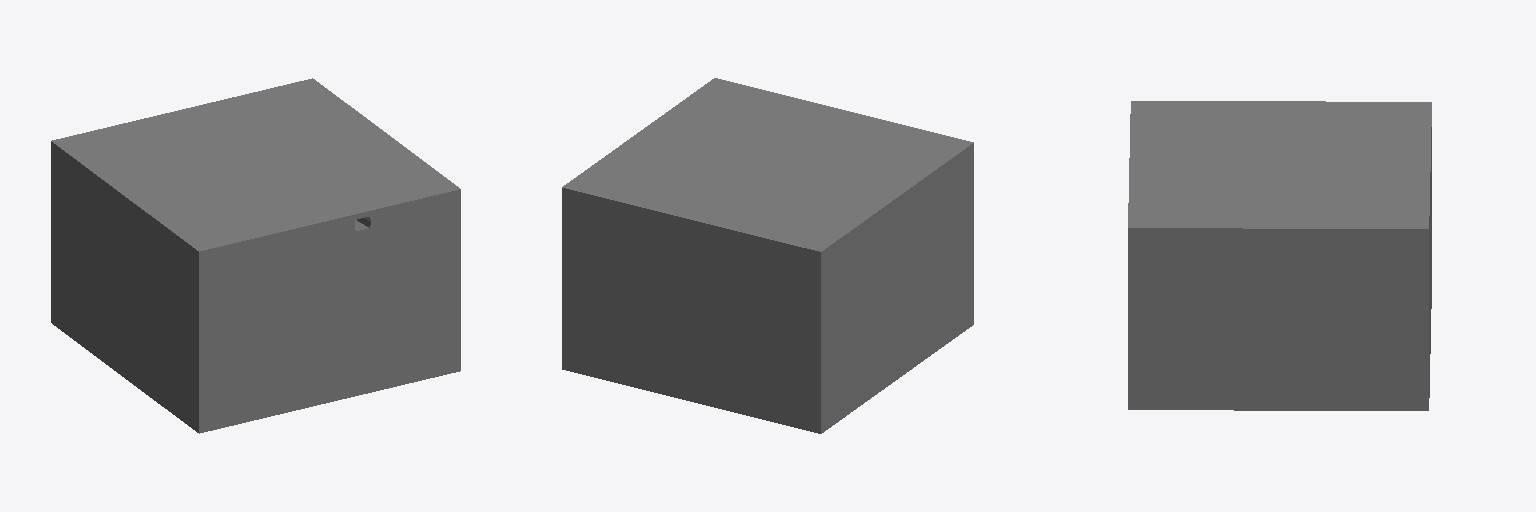
File: Grotte.obj
3 renders of one model, left to right at view 1: azimuth 30°, elevation 25°; view 2: azimuth 150°, elevation 25°; view 3: azimuth 270°, elevation 25°, orthographic.
Parts seen in each view (by area): view 1: Grotte; view 2: Grotte; view 3: Grotte.
Boxes of the visible parts, box(x1,y1,x2,y2) form: Grotte: box(51, 78, 460, 433); Grotte: box(562, 78, 973, 433); Grotte: box(1128, 101, 1431, 410).
Bounding box in the file's own units: 273 × 180 × 273.